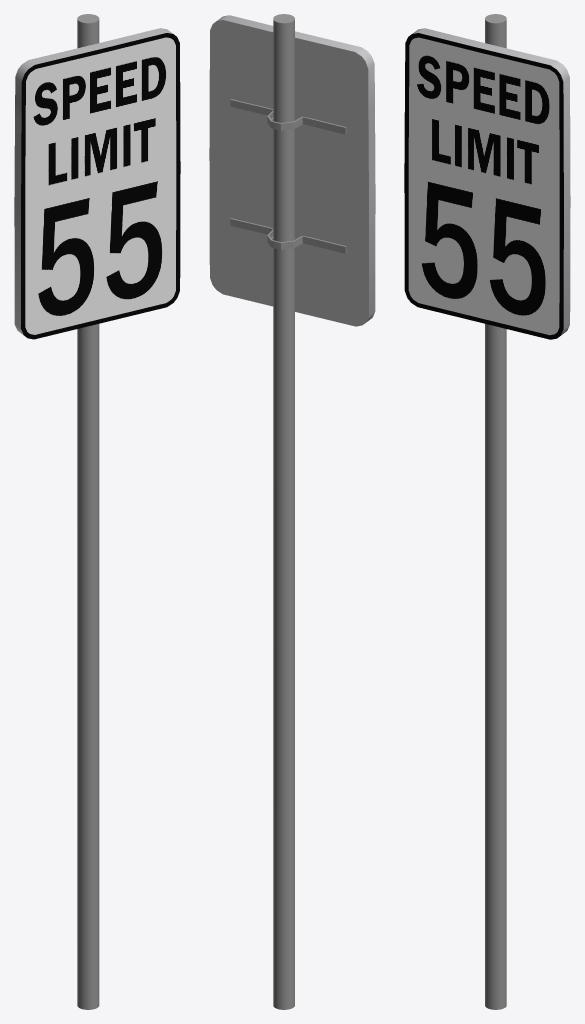
Rendered from SpeedLimit55.fbx.
3 renders of one model, left to right at view 1: azimuth 30°, elevation 25°; view 2: azimuth 150°, elevation 25°; view 3: azimuth 330°, elevation 25°, orthographic.
Parts seen in each view (by area): view 1: NGon001.003; view 2: NGon001.003; view 3: NGon001.003.
Boxes of the visible parts, x1,y1,x2,y2 form: NGon001.003: (14, 14, 180, 1009); NGon001.003: (209, 14, 375, 1009); NGon001.003: (404, 14, 570, 1009).
Bounding box in the file's own units: 50.08 × 296 × 10.89.
